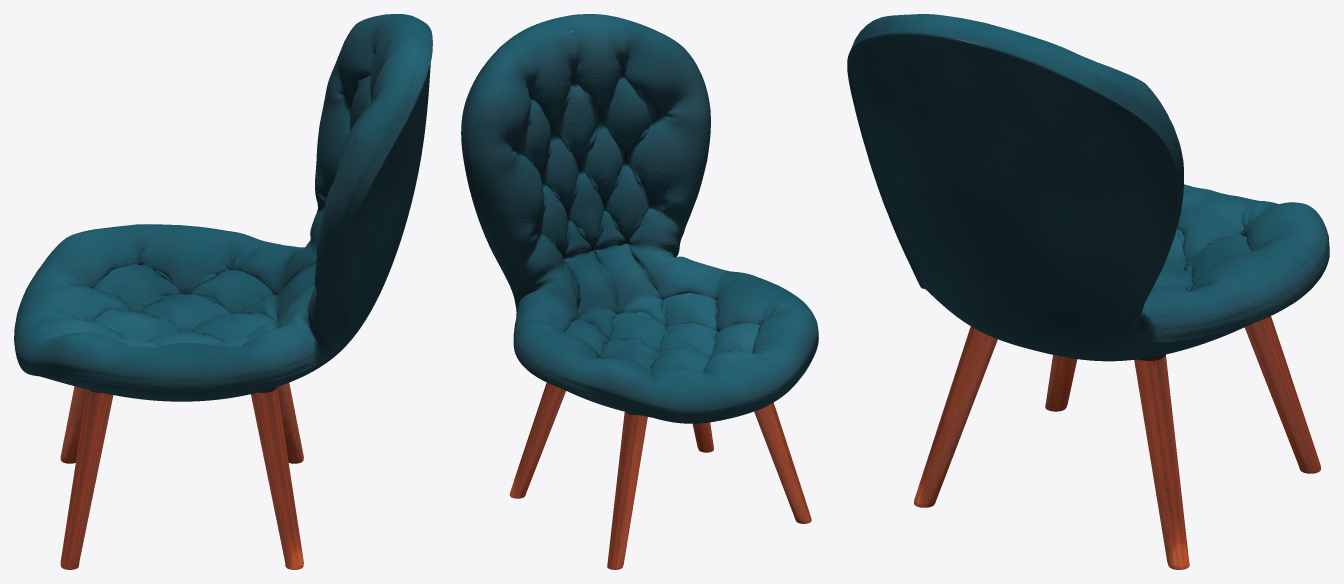
File: chairs-portfolio_09-v1.glb
3 renders of one model, left to right at view 1: azimuth 30°, elevation 25°; view 2: azimuth 150°, elevation 25°; view 3: azimuth 270°, elevation 25°, orthographic. The views are drawn at different scales.
Visible parts, largest first — view 1: 09; view 2: 09; view 3: 09.
Boxes of the visible parts, x1,y1,x2,y2 form: 09: (14,14,432,569); 09: (461,14,818,569); 09: (847,14,1329,569).
Size of the model in its own units: 0.7804 by 0.9576 by 0.7487.
Materials: 1 (1 with a texture image).
